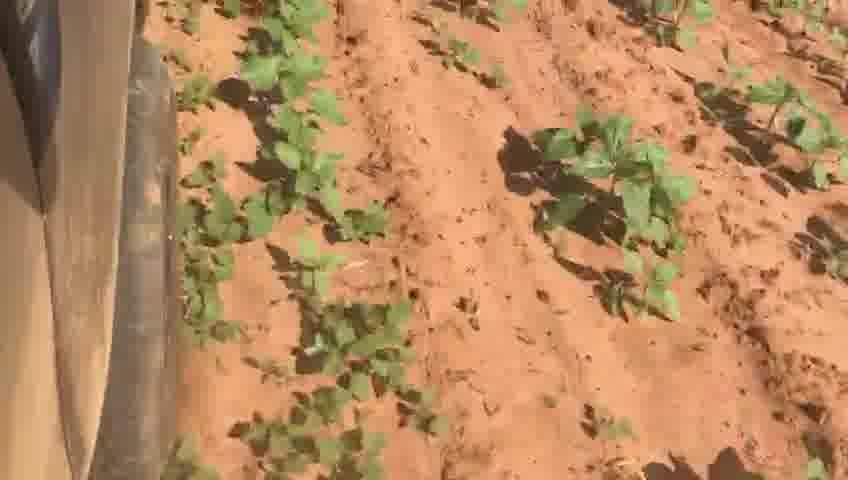sunflower: (566, 170, 695, 263), (543, 108, 675, 187), (733, 71, 836, 165), (236, 31, 342, 99), (273, 129, 343, 205), (298, 235, 347, 307)
